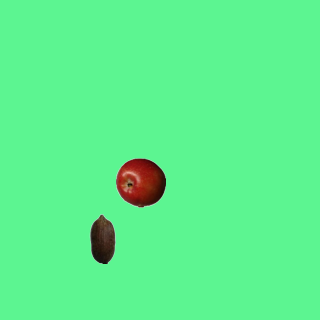Apple Braeburn: (115, 157, 165, 207)
Nut Pecan: (77, 213, 127, 263)
